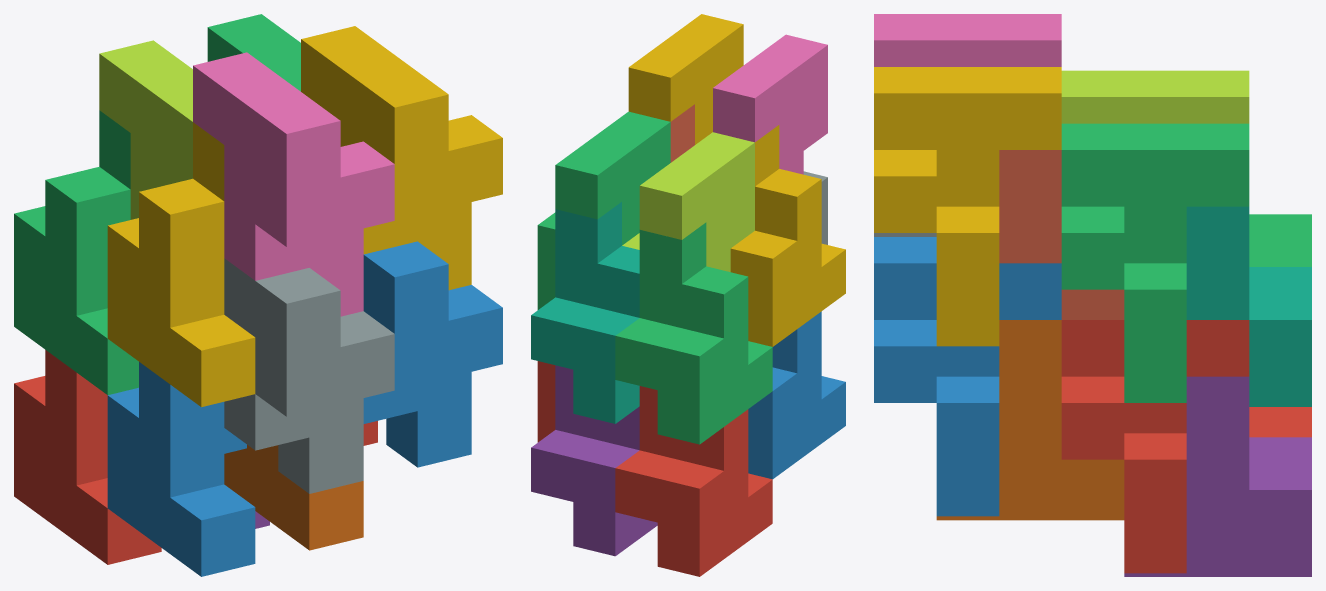
The model's file is tiling.obj.
3 views of the same model, side by side, from view 1: azimuth 30°, elevation 25°; view 2: azimuth 150°, elevation 25°; view 3: azimuth 270°, elevation 25° (orthographic). The views are drawn at different scales.
Parts seen in each view (by area): view 1: copy_2_domain_4, copy_2_domain_2, copy_1_domain_4, copy_2_domain_8, copy_1_domain_2, copy_2_domain_6, copy_1_domain_3, copy_1_domain_1, copy_2_domain_3, copy_1_domain_6, copy_2_domain_7; view 2: copy_1_domain_3, copy_1_domain_1, copy_1_domain_7, copy_1_domain_4, copy_1_domain_5, copy_2_domain_3, copy_2_domain_4, copy_2_domain_7, copy_1_domain_2, copy_2_domain_8, copy_2_domain_5, copy_1_domain_8 (+1 smaller); view 3: copy_2_domain_7, copy_2_domain_8, copy_2_domain_6, copy_2_domain_5, copy_1_domain_5, copy_1_domain_6, copy_1_domain_7, copy_2_domain_3, copy_2_domain_4, copy_1_domain_8, copy_1_domain_3, copy_1_domain_1.
Boxes of the visible parts, left/top/right/bottom form: copy_2_domain_4: left=193, top=52, right=394, bottom=316; copy_2_domain_2: left=224, top=258, right=394, bottom=493; copy_1_domain_4: left=107, top=122, right=255, bottom=407; copy_2_domain_8: left=301, top=26, right=502, bottom=290; copy_1_domain_2: left=107, top=362, right=255, bottom=576; copy_2_domain_6: left=363, top=241, right=502, bottom=467; copy_1_domain_3: left=14, top=110, right=138, bottom=394; copy_1_domain_1: left=14, top=350, right=161, bottom=564; copy_2_domain_3: left=99, top=40, right=192, bottom=219; copy_1_domain_6: left=224, top=445, right=363, bottom=550; copy_2_domain_7: left=207, top=14, right=300, bottom=91; copy_1_domain_3: left=615, top=222, right=772, bottom=444; copy_1_domain_1: left=615, top=386, right=772, bottom=576; copy_1_domain_7: left=531, top=202, right=639, bottom=423; copy_1_domain_4: left=730, top=125, right=845, bottom=346; copy_1_domain_5: left=531, top=365, right=657, bottom=556; copy_2_domain_3: left=622, top=132, right=754, bottom=271; copy_2_domain_4: left=713, top=34, right=827, bottom=174; copy_2_domain_7: left=537, top=111, right=670, bottom=309; copy_1_domain_2: left=748, top=311, right=845, bottom=479; copy_2_domain_8: left=628, top=14, right=743, bottom=144; copy_2_domain_5: left=537, top=361, right=555, bottom=442; copy_1_domain_8: left=670, top=104, right=694, bottom=162; copy_2_domain_7: left=1061, top=123, right=1249, bottom=402; copy_2_domain_8: left=874, top=67, right=1061, bottom=346; copy_2_domain_6: left=874, top=237, right=1061, bottom=516; copy_2_domain_5: left=1061, top=320, right=1249, bottom=573; copy_1_domain_5: left=1124, top=376, right=1311, bottom=576; copy_1_domain_6: left=936, top=320, right=1124, bottom=520; copy_1_domain_7: left=1186, top=206, right=1311, bottom=406; copy_2_domain_3: left=1061, top=70, right=1249, bottom=123; copy_2_domain_4: left=874, top=14, right=1061, bottom=66; copy_1_domain_8: left=999, top=150, right=1124, bottom=319; copy_1_domain_3: left=1249, top=214, right=1311, bottom=266; copy_1_domain_1: left=1249, top=407, right=1311, bottom=437.
Bounding box in the file's own units: 5 × 9 × 7.
